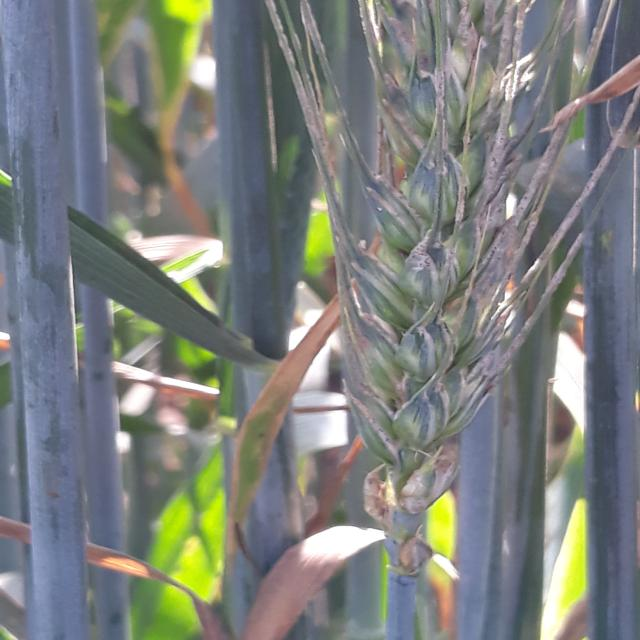powder_mildew: (258, 0, 592, 640)
